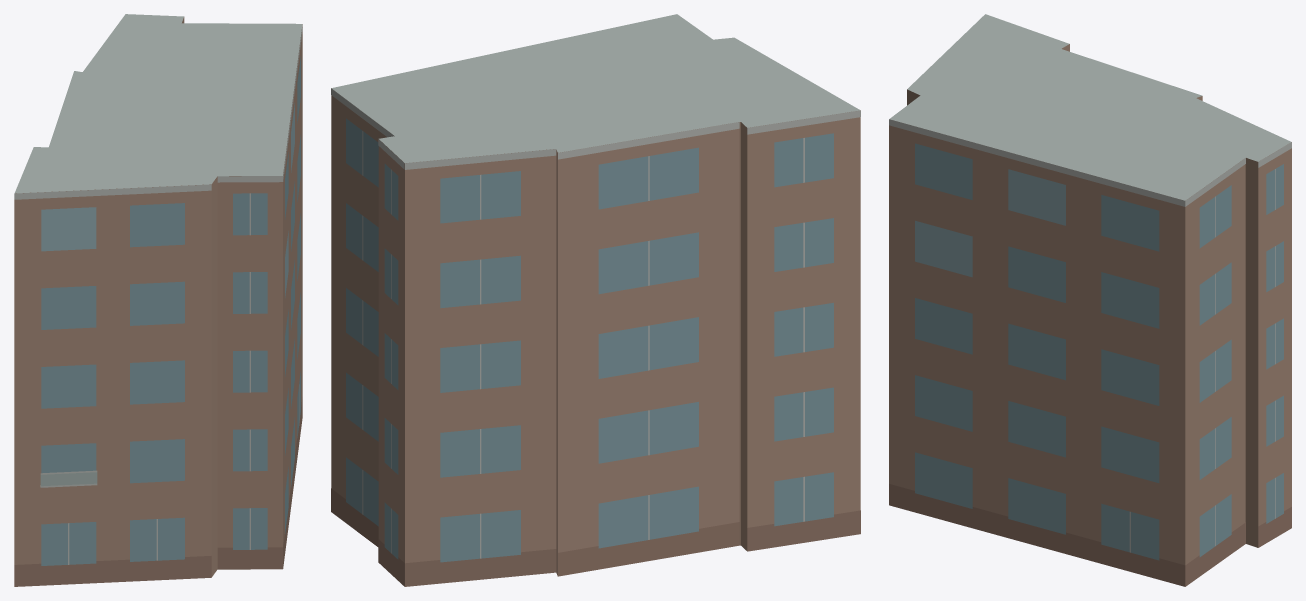
File: survey-upis-32726608.glb
The picture shows the model from 3 angles, left to right: view 1: azimuth 30°, elevation 25°; view 2: azimuth 150°, elevation 25°; view 3: azimuth 270°, elevation 25°; orthographic projection. The views are drawn at different scales.
Parts seen in each view (by area): view 1: survey-upis-32726608.tmp; view 2: survey-upis-32726608.tmp; view 3: survey-upis-32726608.tmp.
Boxes of the visible parts, x1,y1,x2,y2 form: survey-upis-32726608.tmp: [14, 14, 302, 586]; survey-upis-32726608.tmp: [331, 14, 860, 586]; survey-upis-32726608.tmp: [889, 14, 1291, 586].
Bounding box in the file's own units: 15.78 × 15.2 × 14.38.
